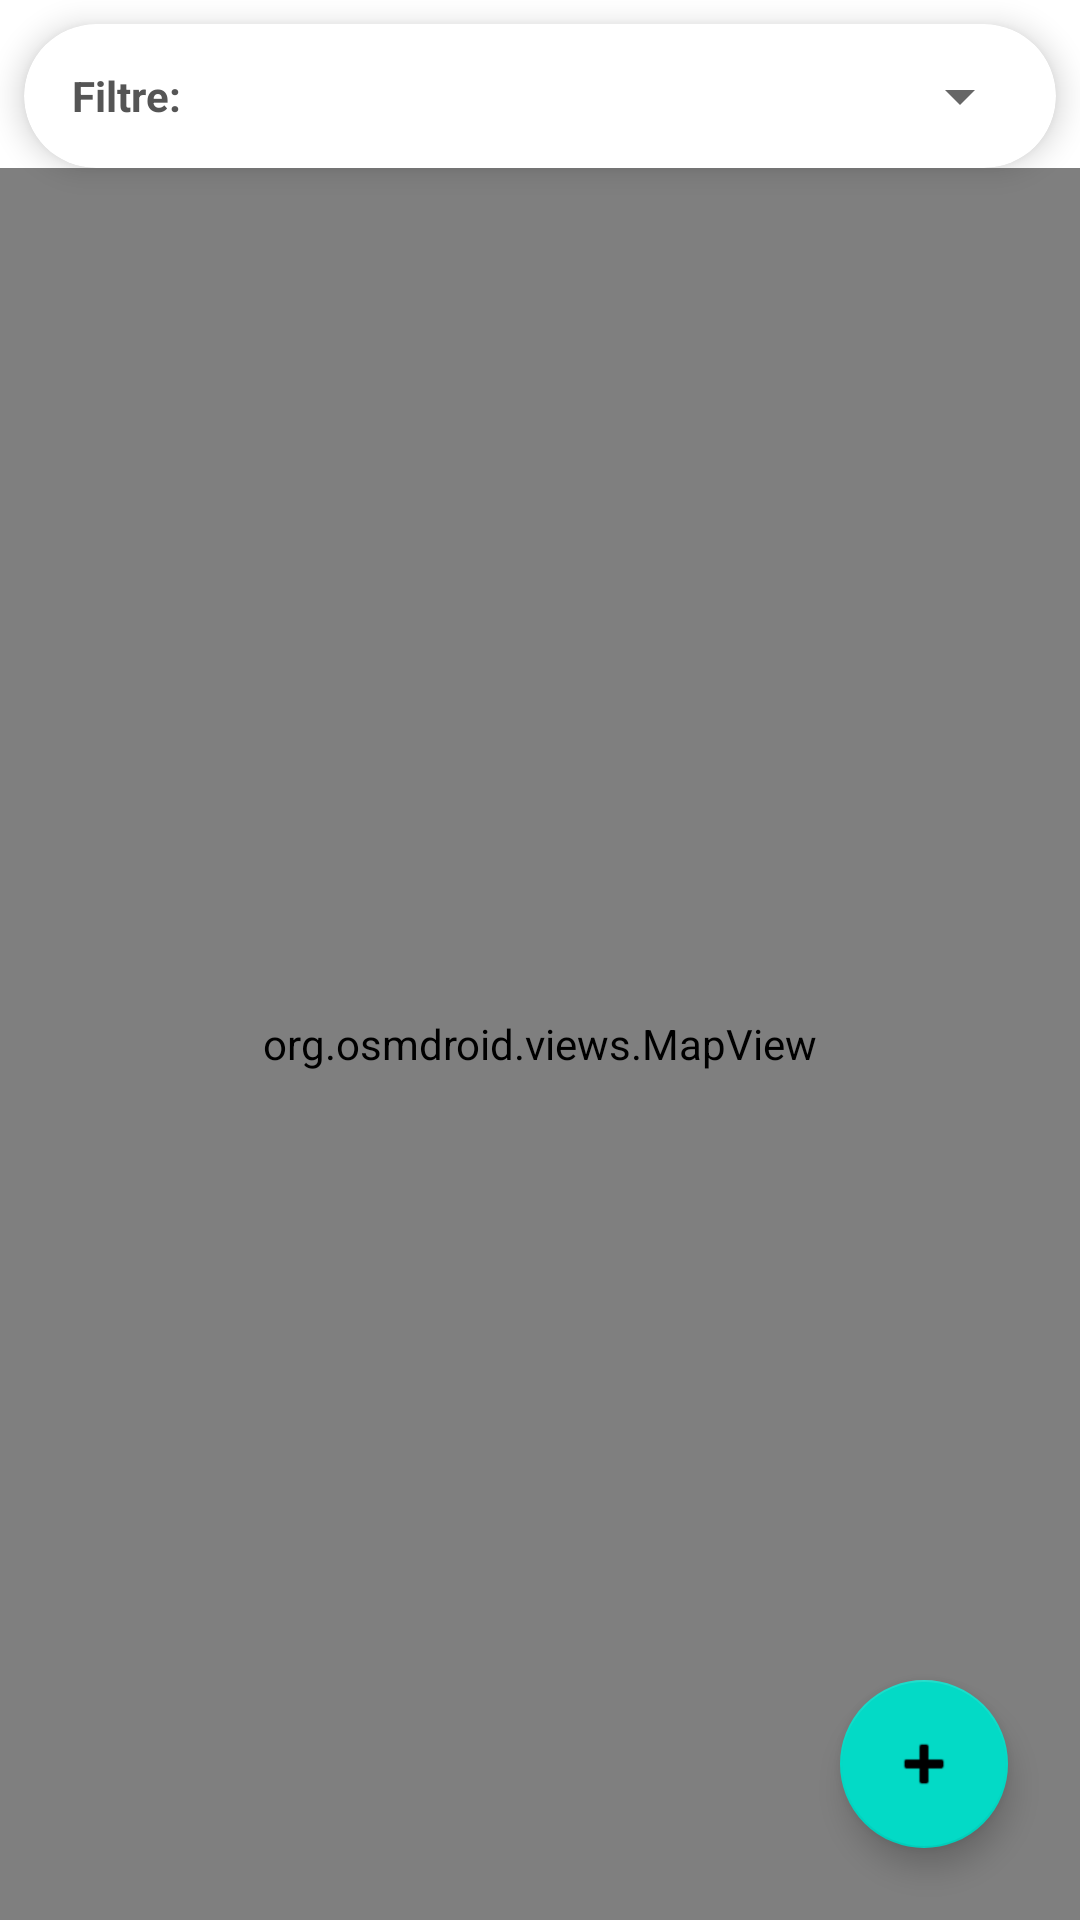

Point at icon controls on the screen. Image size 1080 x 1920, points as point (x, y).
Yeni Nokta Ekle: point (924, 1764)
